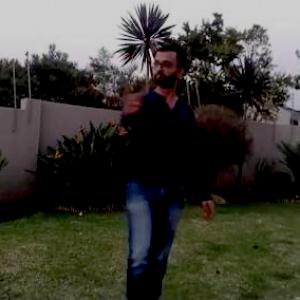takeoff-hand: (118, 76, 152, 117)
